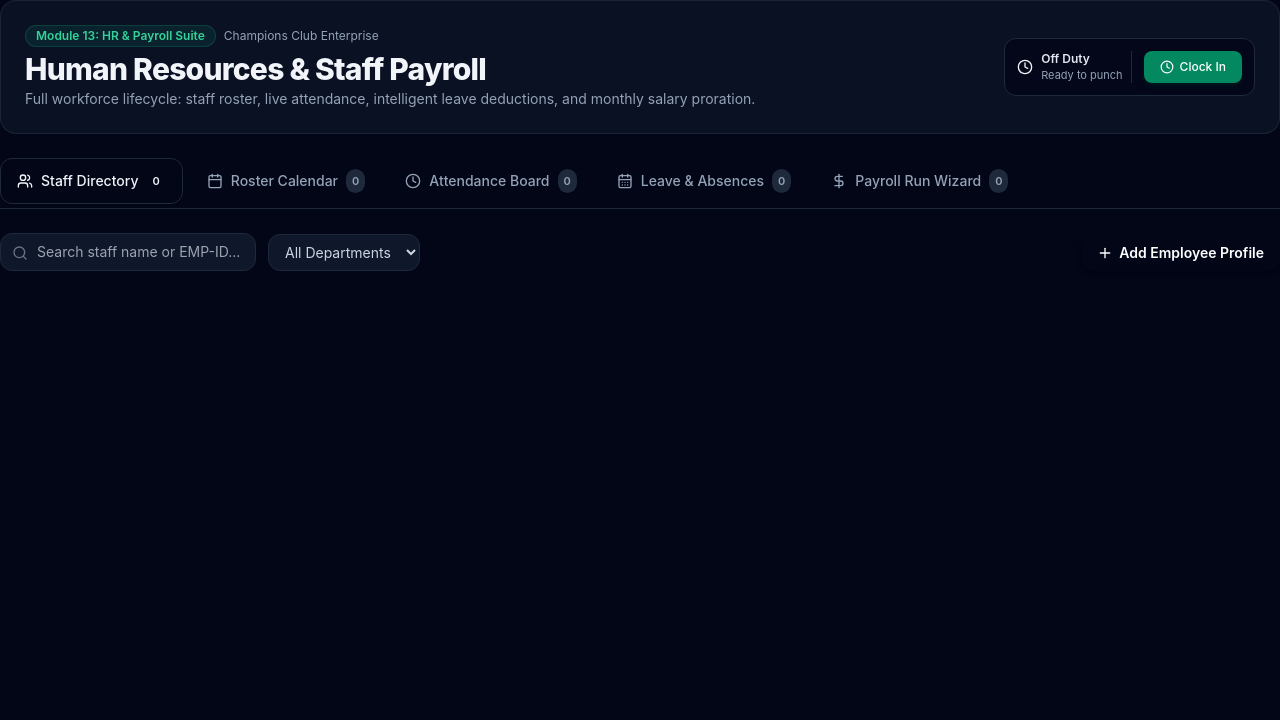
it: HR & Payroll Frontend Module › opens payslip modal breakdown on eye icon click
The image size is (1280, 720).
Click the button "Payroll Run Wizard 0" at (920, 181), box [815,159,1024,203]
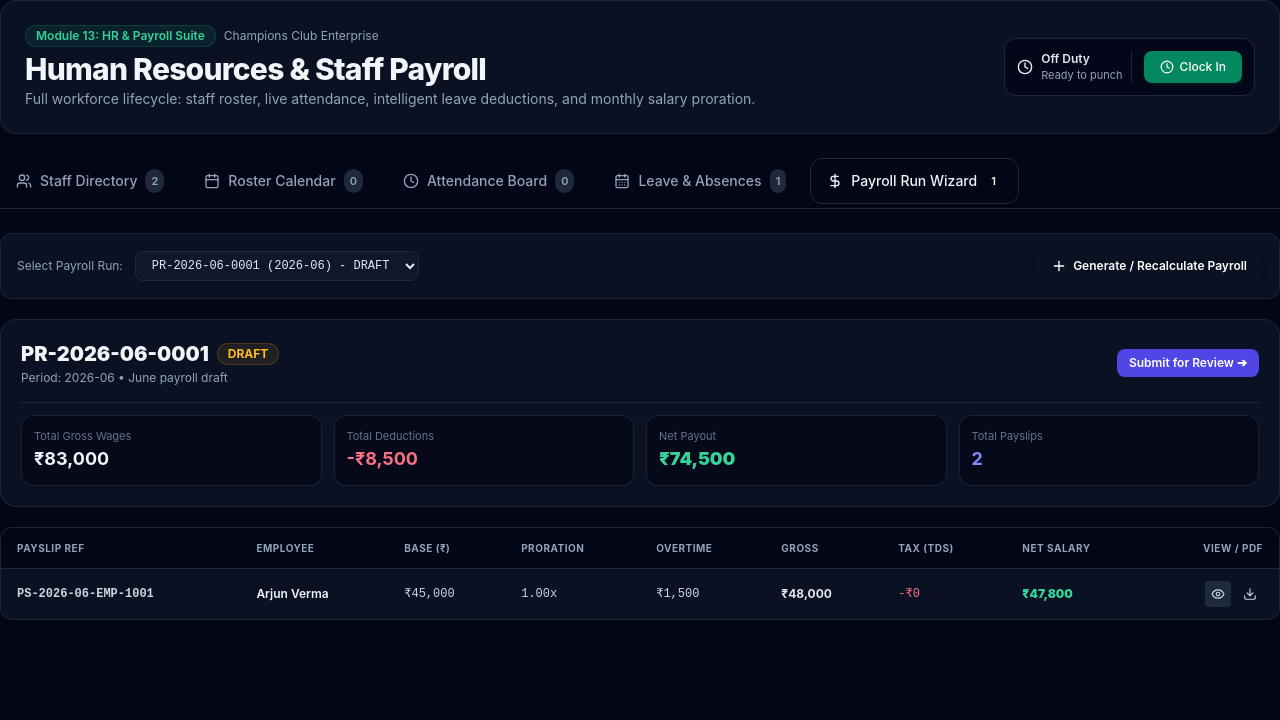
Expected: the button titled "View Breakdown" is shown
Click the button titled "View Breakdown" at (1218, 594), box [1205,580,1231,606]
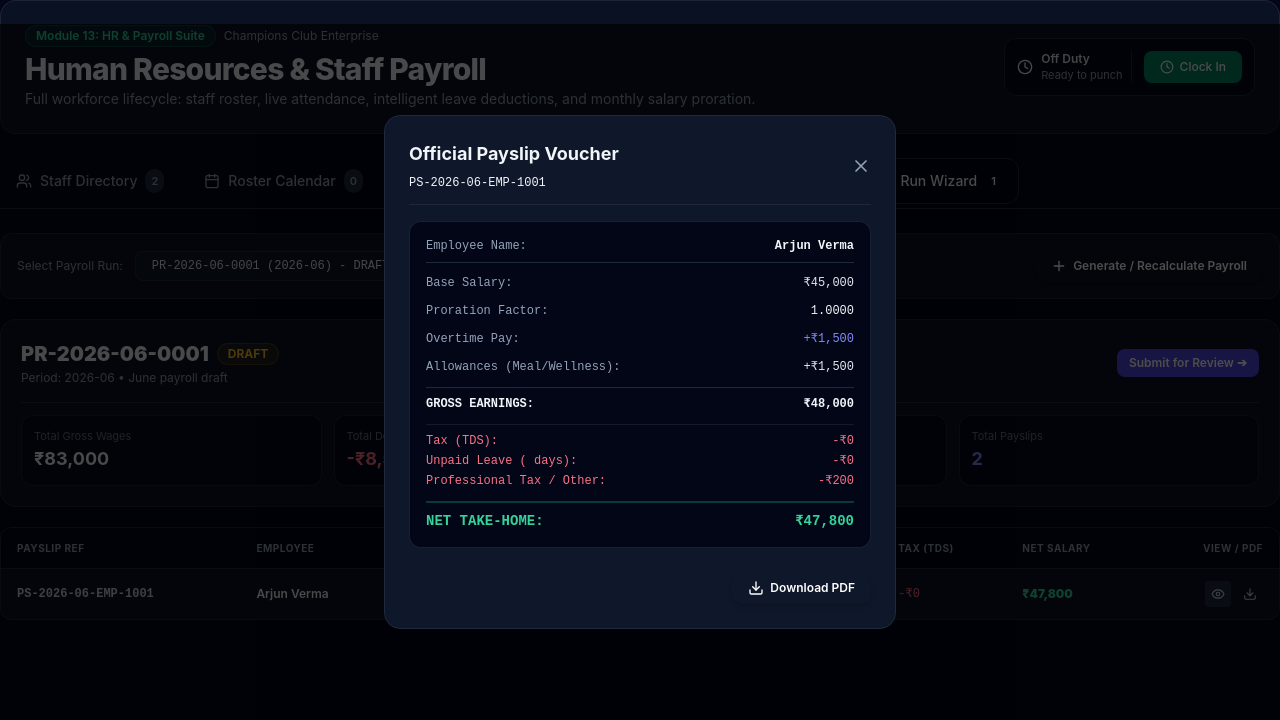
Expected: the heading "Official Payslip Voucher" is shown, [409,140,619,168]
Expected: the text "GROSS EARNINGS:" is shown, [426,396,534,412]
Expected: the text "NET TAKE-HOME:" is shown, [426,511,544,531]
